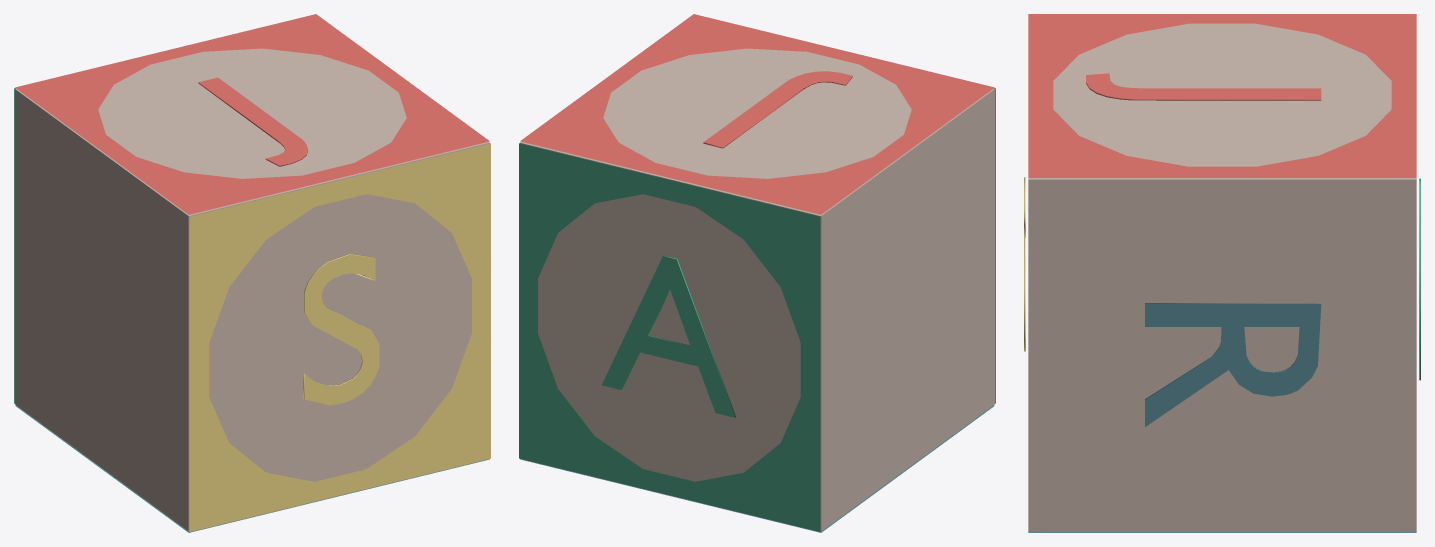
3 renders of one model, left to right at view 1: azimuth 30°, elevation 25°; view 2: azimuth 150°, elevation 25°; view 3: azimuth 270°, elevation 25°, orthographic. The views are drawn at different scales.
Parts seen in each view (by area): view 1: cube; view 2: cube; view 3: cube.
Part boxes in pixels (box(x1,y1,x2,y2)): cube: box(14, 14, 490, 532); cube: box(519, 14, 995, 532); cube: box(1024, 14, 1420, 532).
Bounding box in the file's own units: 0.0453 × 0.046 × 0.046.
